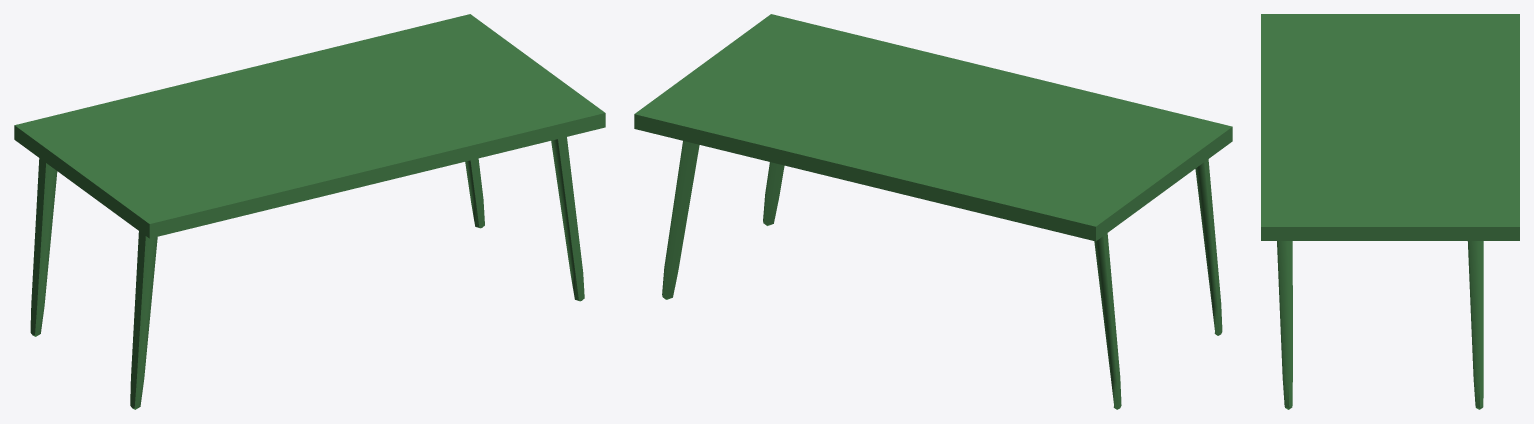
The model's file is dining table 1.fbx.
3 views of the same model, side by side, from view 1: azimuth 30°, elevation 25°; view 2: azimuth 150°, elevation 25°; view 3: azimuth 270°, elevation 25° (orthographic). The views are drawn at different scales.
Visible parts, largest first — view 1: polySurface629; view 2: polySurface629; view 3: polySurface629.
Boxes of the visible parts, left/top/right/bottom form: polySurface629: left=14, top=14, right=605, bottom=409; polySurface629: left=634, top=14, right=1232, bottom=409; polySurface629: left=1261, top=14, right=1519, bottom=409.
Bounding box in the file's own units: 16.63 × 6.8 × 8.48.
